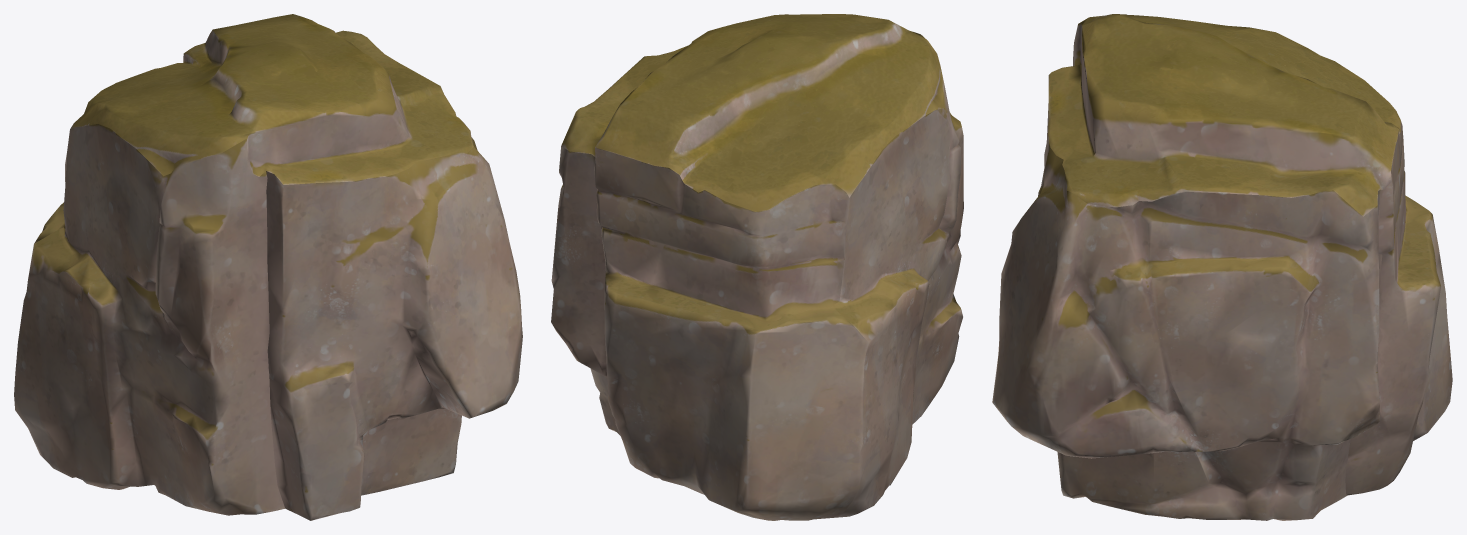
Rendered from roccia.fbx.
The picture shows the model from 3 angles, left to right: view 1: azimuth 30°, elevation 25°; view 2: azimuth 150°, elevation 25°; view 3: azimuth 270°, elevation 25°; orthographic projection. The views are drawn at different scales.
Parts seen in each view (by area): view 1: Rock_01_Low; view 2: Rock_01_Low; view 3: Rock_01_Low.
Boxes of the visible parts, bbox=[...] form: Rock_01_Low: bbox=[14, 14, 522, 520]; Rock_01_Low: bbox=[551, 14, 963, 520]; Rock_01_Low: bbox=[992, 14, 1452, 520].
Bounding box in the file's own units: 211 × 240 × 239.
1 material, 1 textured.
